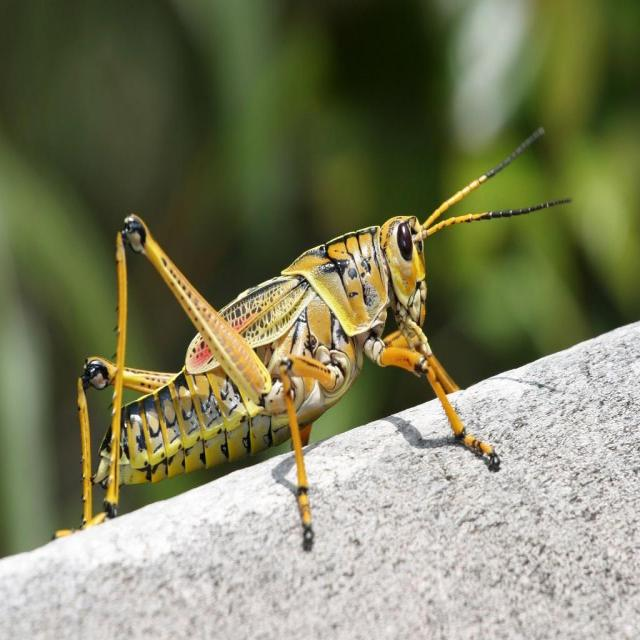ZhaMeng: (74, 132, 567, 544)
